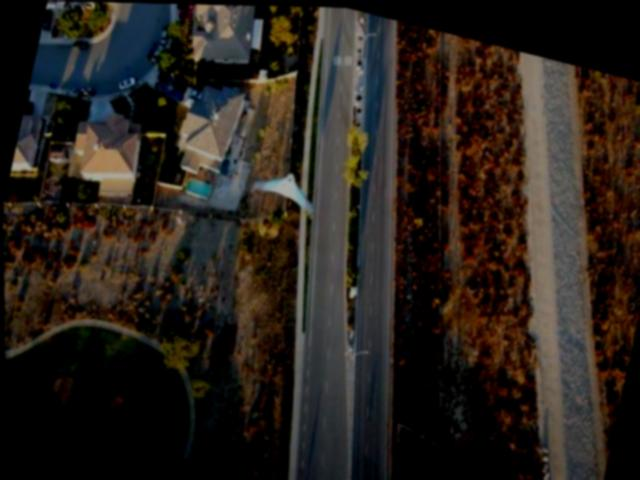iha: (247, 157, 323, 211)
